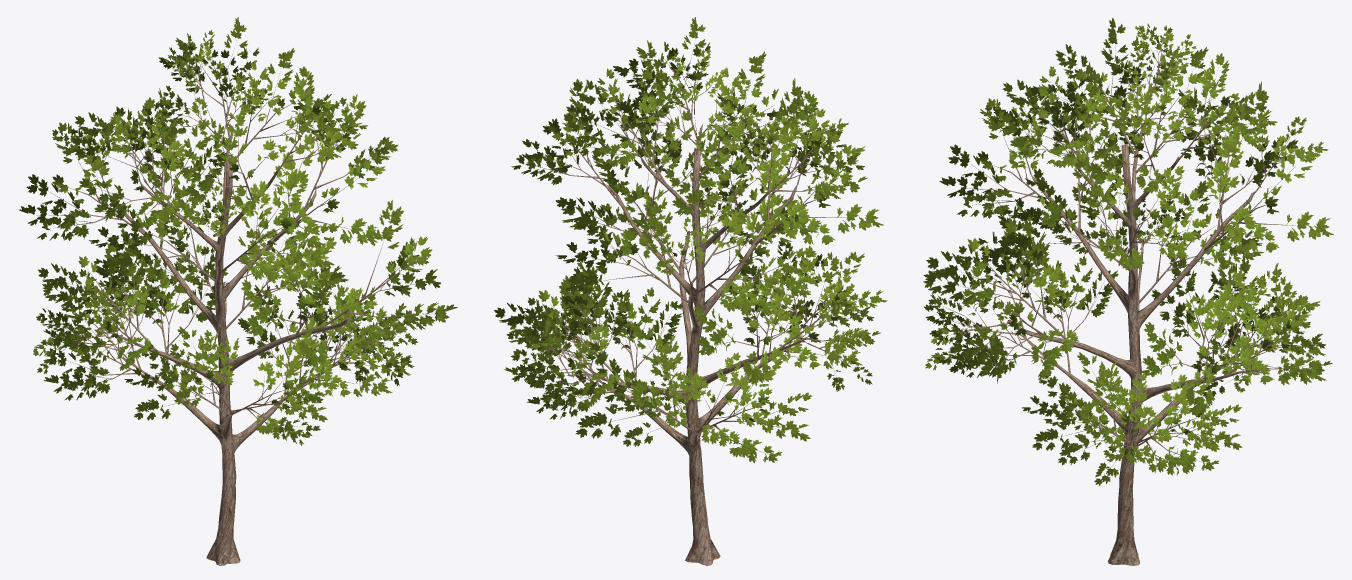
The model's file is Maple2.obj.
3 views of the same model, side by side, from view 1: azimuth 30°, elevation 25°; view 2: azimuth 150°, elevation 25°; view 3: azimuth 270°, elevation 25° (orthographic). The views are drawn at different scales.
Parts seen in each view (by area): view 1: leaf maple, bark02; view 2: leaf maple, bark02; view 3: leaf maple, bark02.
Boxes of the visible parts, x1,y1,x2,y2 form: leaf maple: (19,17,457,445); bark02: (36,51,434,565); leaf maple: (494,17,887,463); bark02: (523,47,861,565); leaf maple: (923,17,1333,485); bark02: (943,37,1313,565).
Bounding box in the file's own units: 604 × 815 × 580.
2 materials, 2 textured.
